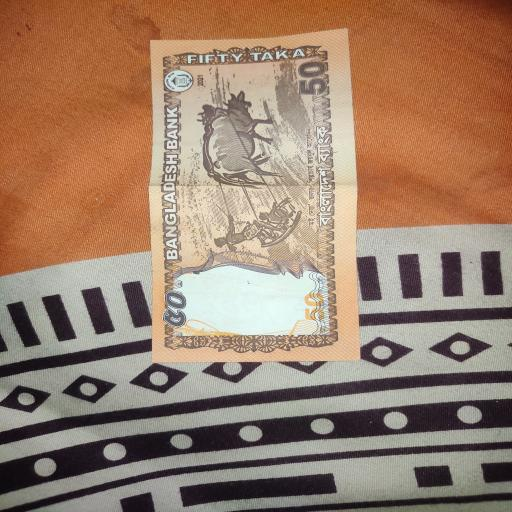50taka: (148, 30, 364, 362)
